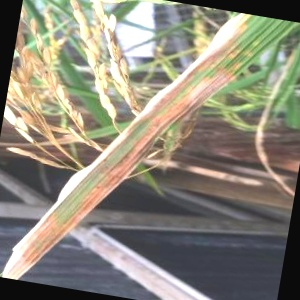Leaf_Blast: (35, 177, 84, 249)
